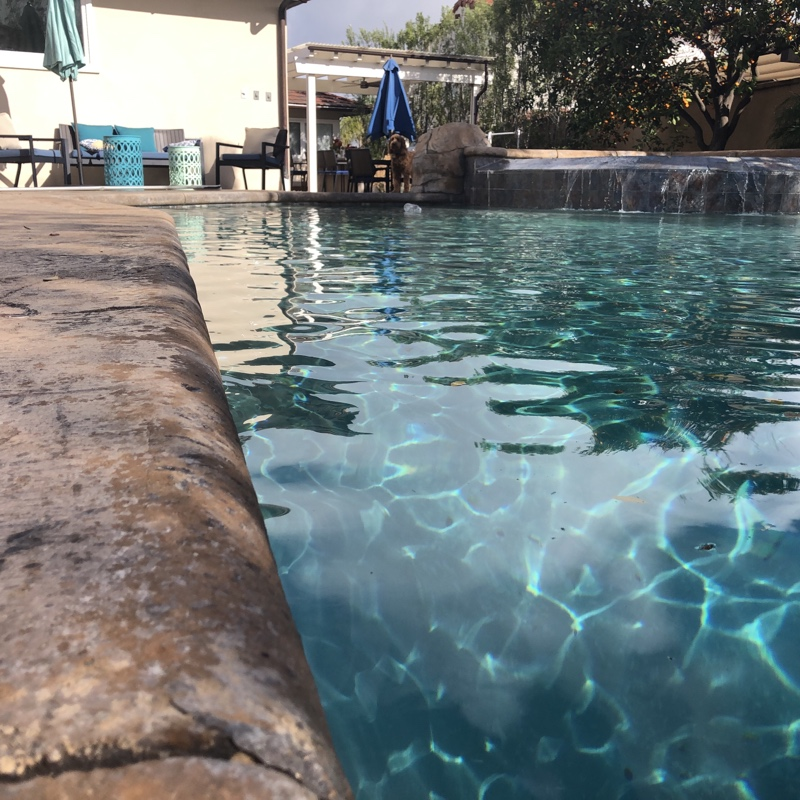Plastic Bottle: (403, 203, 419, 218)
